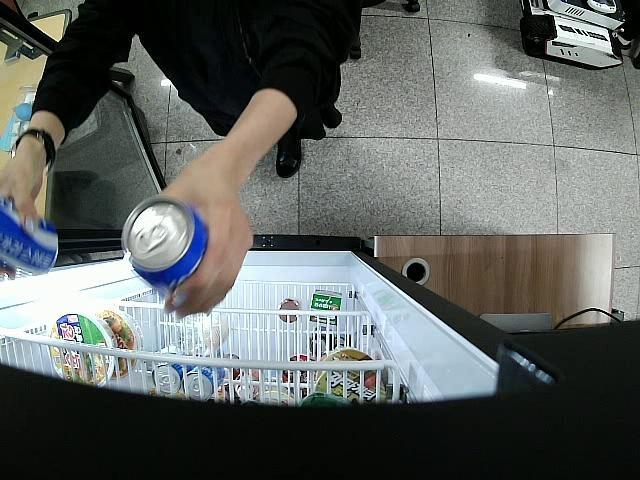13_pocariSweat: (120, 196, 208, 303), (0, 197, 59, 278)
